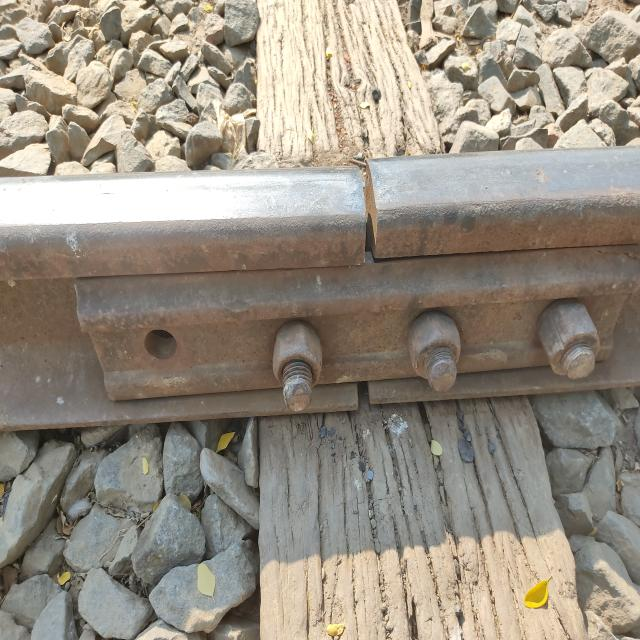Faults: (351, 162, 394, 273), (137, 310, 185, 374)
